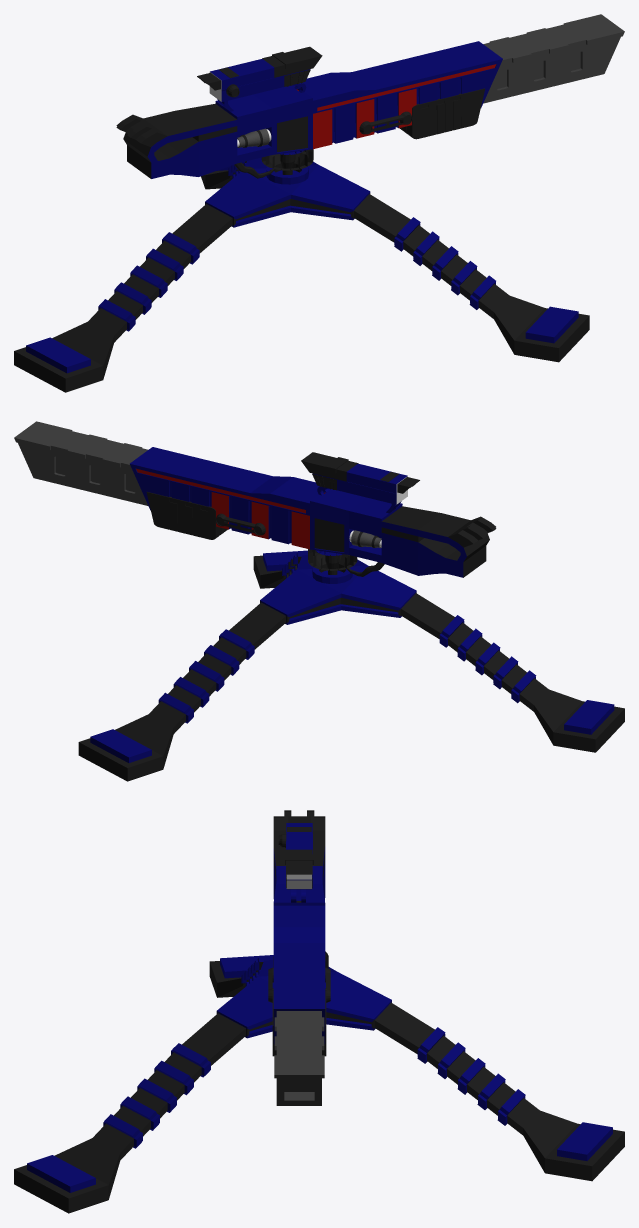
The model's file is Gun blue.fbx.
The picture shows the model from 3 angles, top to bottom: view 1: azimuth 30°, elevation 25°; view 2: azimuth 150°, elevation 25°; view 3: azimuth 270°, elevation 25°; orthographic projection. The views are drawn at different scales.
Visible parts, largest first — view 1: gun body, stand; view 2: gun body, stand; view 3: stand, gun body.
Boxes of the visible parts, x1,y1,x2,y2 form: gun body: [116, 14, 624, 178]; stand: [14, 149, 589, 392]; gun body: [14, 421, 496, 577]; stand: [78, 549, 624, 781]; stand: [14, 951, 624, 1213]; gun body: [268, 810, 330, 1105].
Size of the model in its own units: 3250 by 1242 by 2700.
